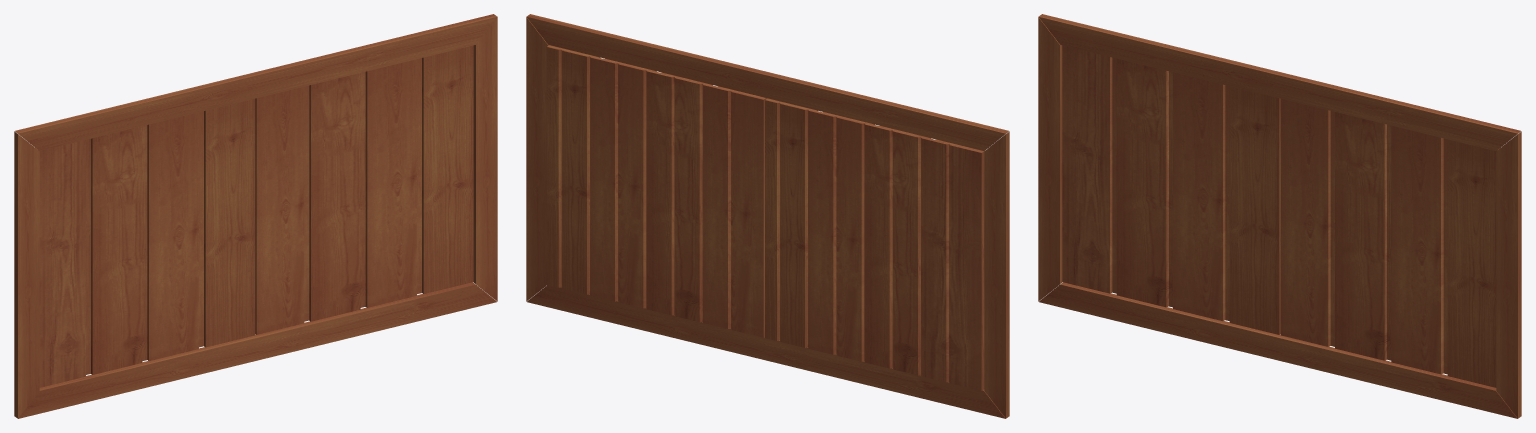
3 renders of one model, left to right at view 1: azimuth 30°, elevation 25°; view 2: azimuth 150°, elevation 25°; view 3: azimuth 330°, elevation 25°, orthographic.
Visible parts, largest first — view 1: plank004, plank008, plank003, plank009, plank007, trim_top, plank006, plank010, plank002, trim_bottom, trim_left, trim_right; view 2: plank002, plank007, plank009, plank008, plank004, plank003, trim_top, plank010, trim_bottom, plank006, trim_left, trim_right; view 3: plank003, plank004, plank008, plank009, plank002, plank007, trim_top, plank006, trim_bottom, plank010, trim_right, trim_left.
Part boxes in pixels (box(x1,y1,x2,y2)): plank004: box(147, 111, 203, 361); plank008: box(309, 71, 365, 321); plank003: box(91, 125, 147, 374); plank009: box(365, 58, 421, 307); plank007: box(255, 85, 309, 334); trim_top: box(15, 14, 497, 150); plank006: box(204, 98, 255, 347); plank010: box(422, 45, 473, 293); plank002: box(36, 139, 90, 387); trim_bottom: box(18, 282, 496, 418); trim_left: box(14, 131, 39, 418); trim_right: box(473, 17, 497, 301); plank002: box(921, 136, 985, 390); plank007: box(702, 83, 766, 337); plank009: box(590, 56, 656, 308); plank008: box(646, 69, 712, 322); plank004: box(808, 109, 874, 361); plank003: box(864, 122, 930, 375); trim_top: box(526, 14, 1008, 150); plank010: box(546, 45, 599, 294); trim_bottom: box(527, 285, 1005, 418); plank006: box(765, 98, 817, 347); trim_left: box(984, 131, 1009, 418); trim_right: box(526, 17, 548, 301); plank003: box(1116, 58, 1172, 307); plank004: box(1173, 72, 1229, 321); plank008: box(1335, 112, 1391, 360); plank009: box(1391, 125, 1447, 374); plank002: box(1062, 45, 1116, 293); plank007: box(1280, 98, 1334, 346); trim_top: box(1038, 14, 1520, 150); plank006: box(1229, 86, 1280, 334); trim_bottom: box(1039, 282, 1517, 418); plank010: box(1447, 139, 1499, 387); trim_right: box(1496, 131, 1521, 418); trim_left: box(1038, 17, 1062, 301).
Size of the model in its own units: 55.15 by 31.33 by 1.13.
Materials: 7 (7 with a texture image).
